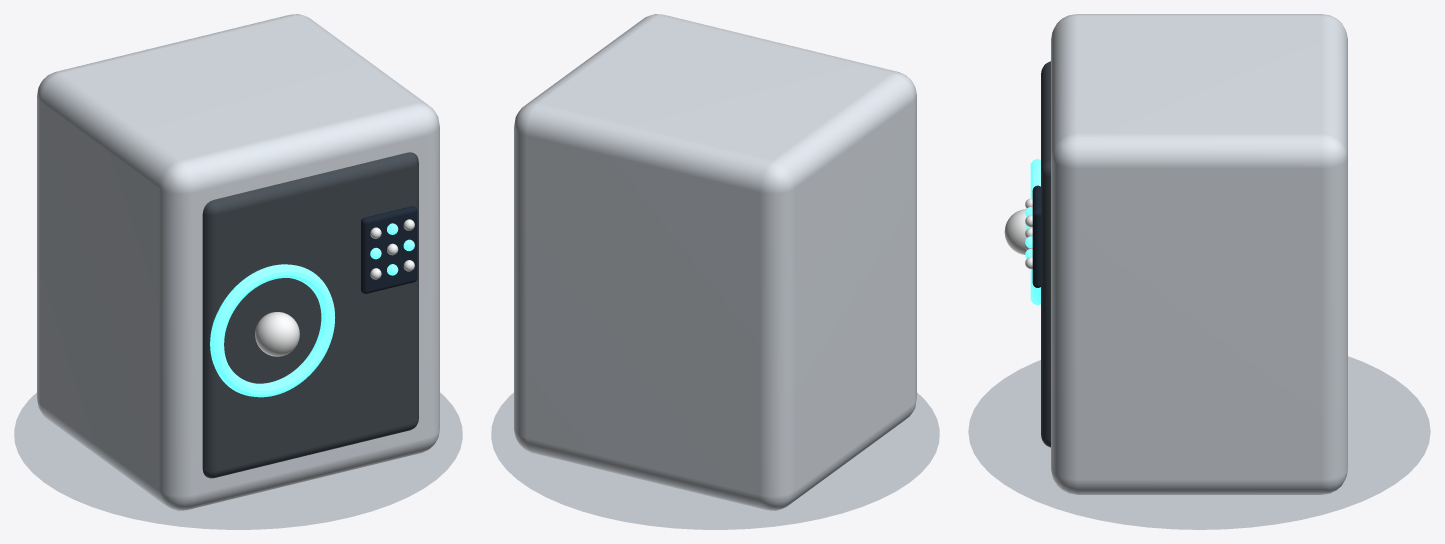
The model's file is vault.glb.
3 views of the same model, side by side, from view 1: azimuth 30°, elevation 25°; view 2: azimuth 150°, elevation 25°; view 3: azimuth 270°, elevation 25° (orthographic). The views are drawn at different scales.
Visible parts, largest first — view 1: vault_outer_shell, vault_door, vault_contact_shadow, vault_handle_ring, vault_keypad, vault_handle_knob; view 2: vault_outer_shell, vault_contact_shadow; view 3: vault_outer_shell, vault_contact_shadow, vault_door, vault_keypad, vault_handle_knob, vault_handle_ring.
Part boxes in pixels (box(x1,y1,x2,y2)): vault_outer_shell: box(37, 14, 439, 510); vault_door: box(202, 152, 418, 478); vault_contact_shadow: box(14, 393, 462, 529); vault_handle_ring: box(210, 264, 335, 397); vault_keypad: box(361, 206, 417, 293); vault_handle_knob: box(255, 312, 299, 356); vault_outer_shell: box(514, 14, 916, 510); vault_contact_shadow: box(491, 393, 939, 529); vault_outer_shell: box(1051, 14, 1347, 494); vault_contact_shadow: box(968, 356, 1430, 529); vault_door: box(1041, 61, 1050, 447); vault_keypad: box(1032, 185, 1041, 287); vault_handle_knob: box(1004, 209, 1026, 254); vault_handle_ring: box(1030, 159, 1040, 305).
Bounding box in the file's own units: 1.4 × 1.2 × 1.4.
